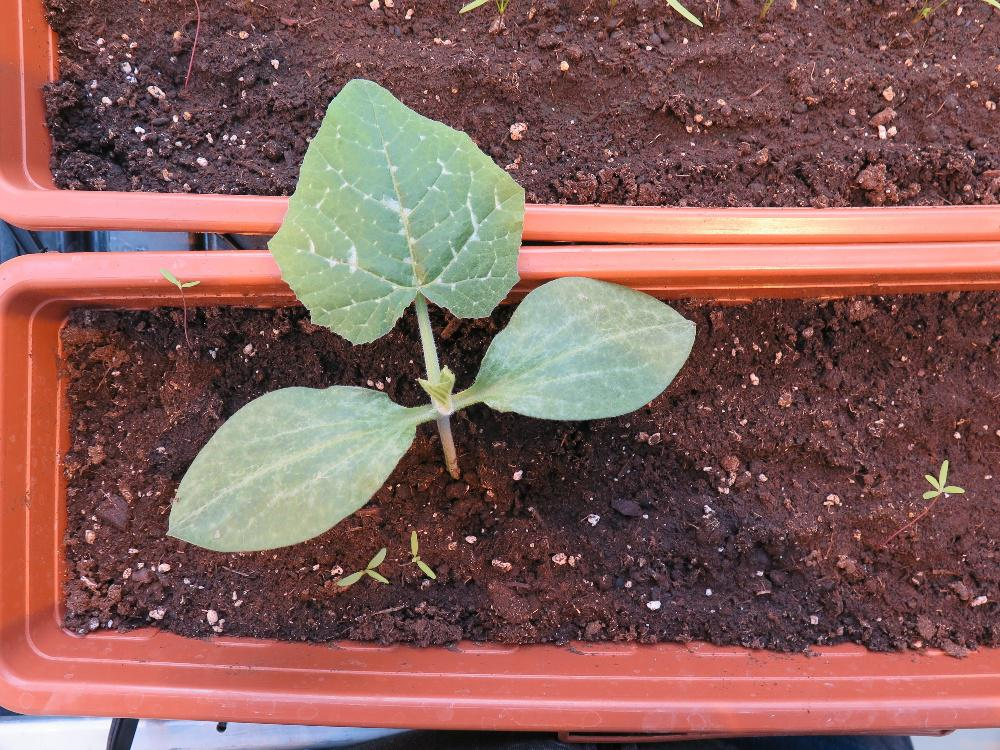weed: (335, 544, 390, 585), (920, 456, 964, 499), (409, 527, 435, 579), (156, 264, 200, 289)
